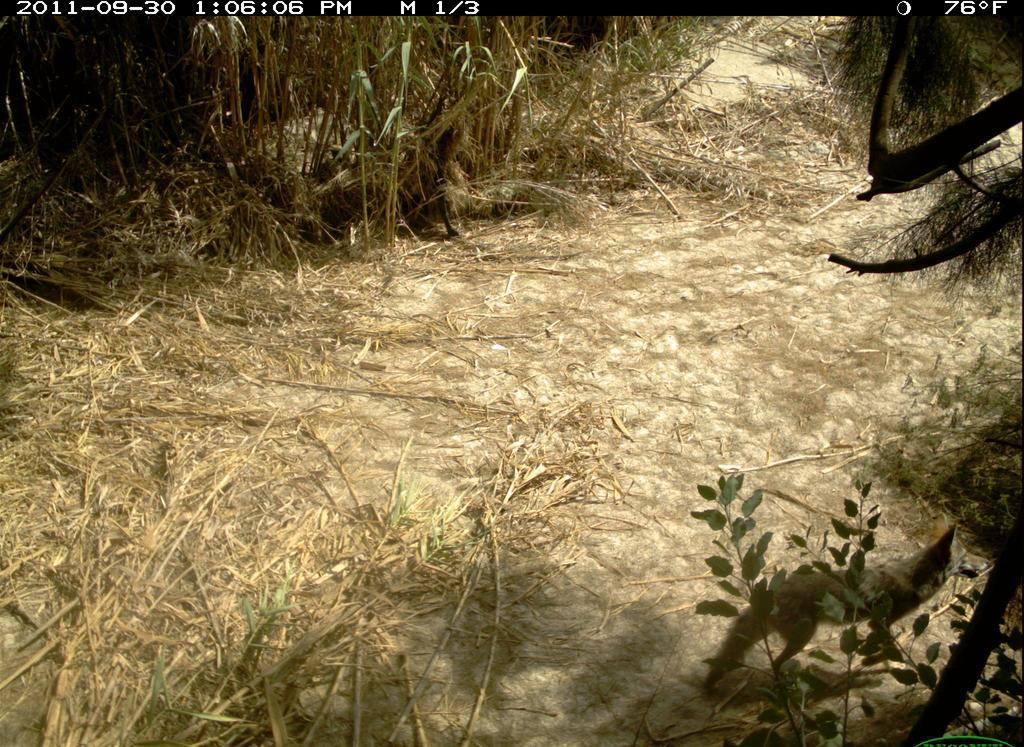coyote: (687, 519, 984, 697)
